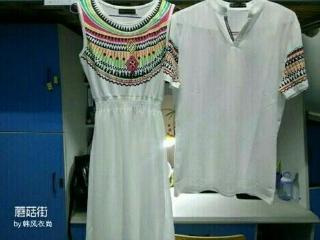short sleeve top: (164, 0, 309, 205)
vest: (75, 0, 175, 239)
